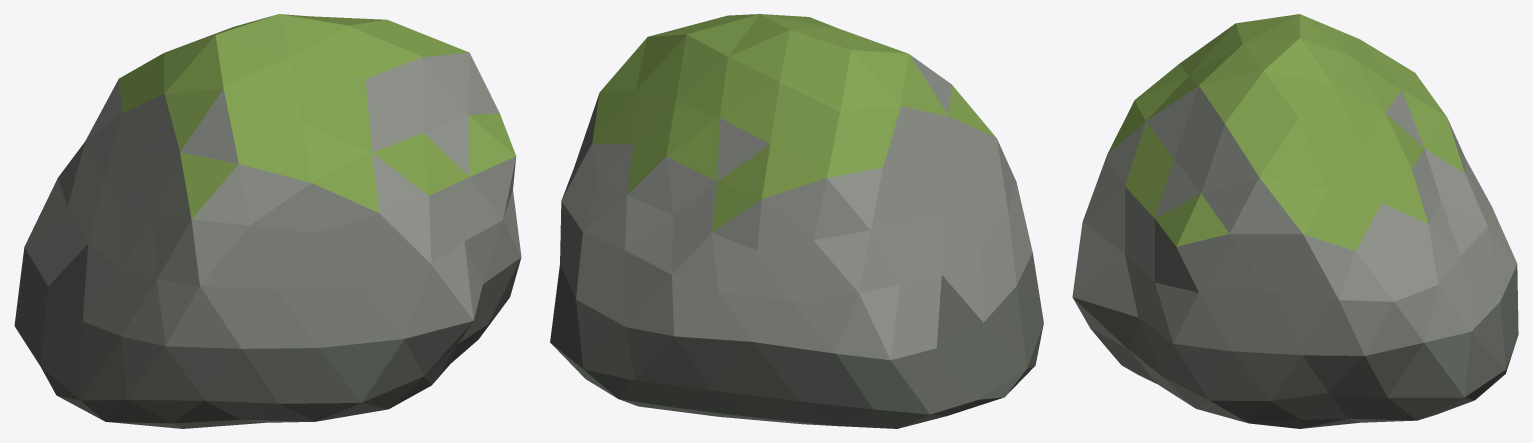
File: Rock_Small.fbx
3 views of the same model, side by side, from view 1: azimuth 30°, elevation 25°; view 2: azimuth 150°, elevation 25°; view 3: azimuth 270°, elevation 25° (orthographic). The views are drawn at different scales.
Parts seen in each view (by area): view 1: Rock_Small.001; view 2: Rock_Small.001; view 3: Rock_Small.001.
Part boxes in pixels (box(x1,y1,x2,y2)): Rock_Small.001: box(14, 14, 521, 428); Rock_Small.001: box(550, 14, 1043, 428); Rock_Small.001: box(1072, 14, 1518, 428).
Bounding box in the file's own units: 0.7738 × 0.6027 × 0.741.
